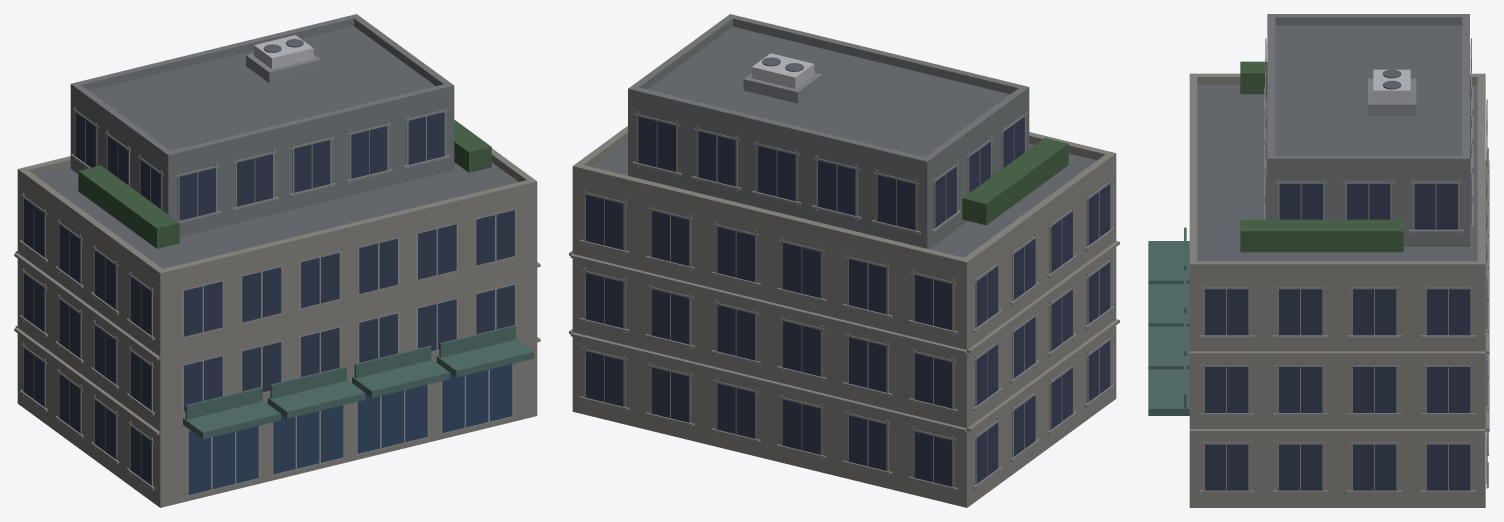
Rendered from civic_commercial_lvl1.glb.
The picture shows the model from 3 angles, left to right: view 1: azimuth 30°, elevation 25°; view 2: azimuth 150°, elevation 25°; view 3: azimuth 270°, elevation 25°; orthographic projection. The views are drawn at different scales.
Parts seen in each view (by area): view 1: civic_commercial; view 2: civic_commercial; view 3: civic_commercial.
Part boxes in pixels (x1,y1,x2,y2): civic_commercial: (14, 14, 540, 507); civic_commercial: (569, 14, 1119, 507); civic_commercial: (1148, 14, 1489, 507).
Size of the model in its own units: 1 by 0.8395 by 0.7422.
